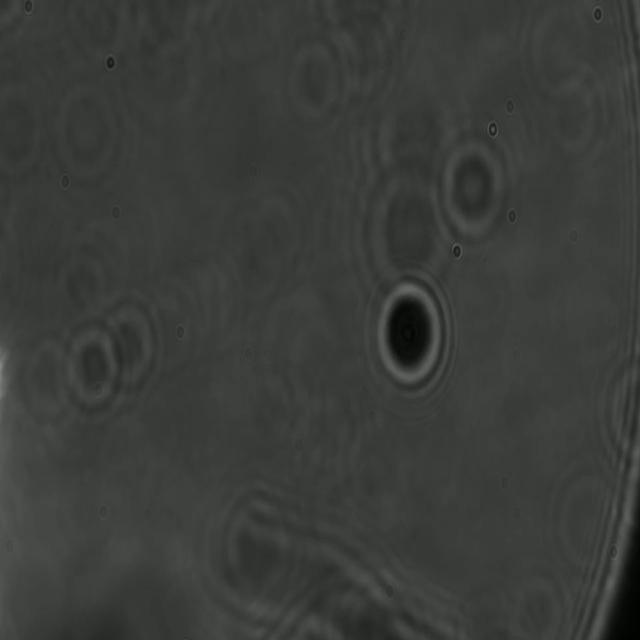DCELL: (368, 271, 454, 401)
